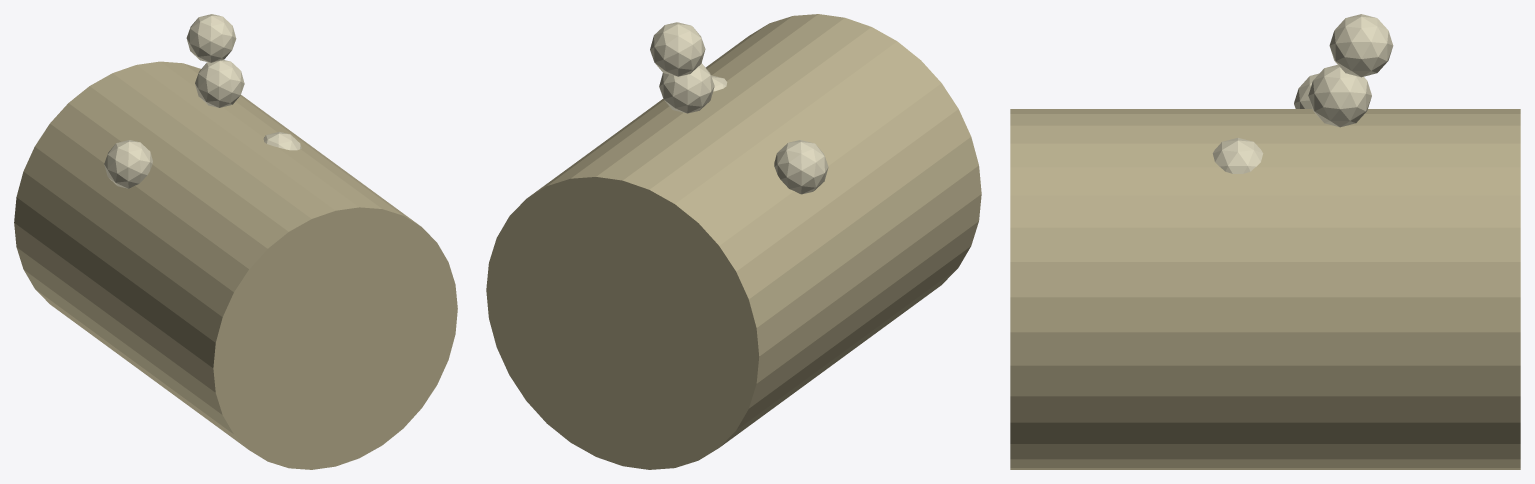
File: origin_spawn.glb
3 views of the same model, side by side, from view 1: azimuth 30°, elevation 25°; view 2: azimuth 150°, elevation 25°; view 3: azimuth 270°, elevation 25° (orthographic). The views are drawn at different scales.
Visible parts, largest first — view 1: geometry_0; view 2: geometry_0; view 3: geometry_0.
Boxes of the visible parts, bbox=[...] form: geometry_0: bbox=[14, 14, 457, 469]; geometry_0: bbox=[486, 14, 981, 469]; geometry_0: bbox=[1010, 14, 1520, 469].
Size of the model in its own units: 0.68 by 0.9229 by 0.96.
